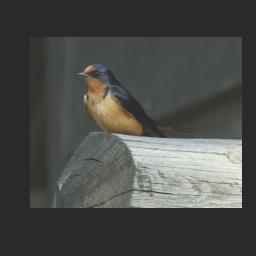Swallow: (76, 63, 199, 137)
